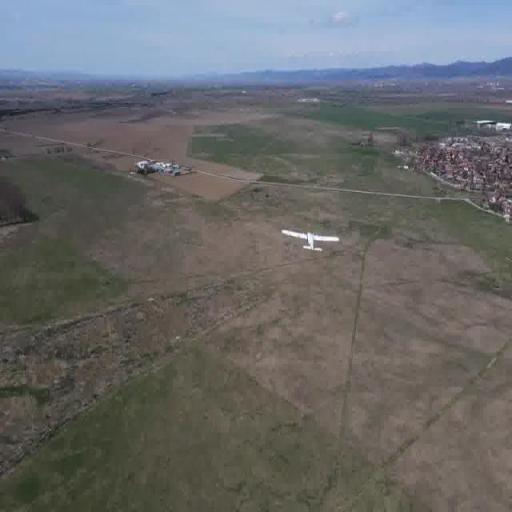uav: (281, 226, 343, 258)
